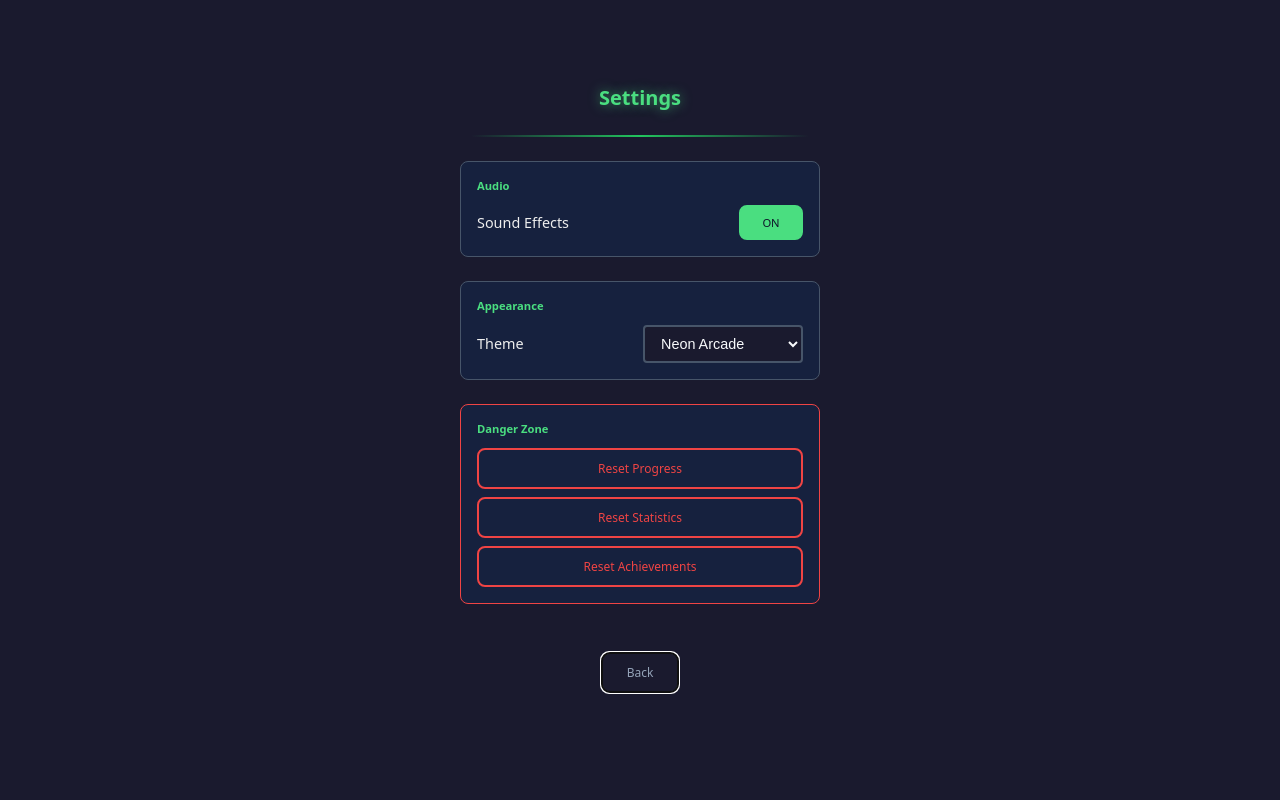
Test case: SettingsScreen › cancels confirmation dialog on Cancel click
Click the button "Reset Progress".
click(640, 468)  # box [477,448,803,488]
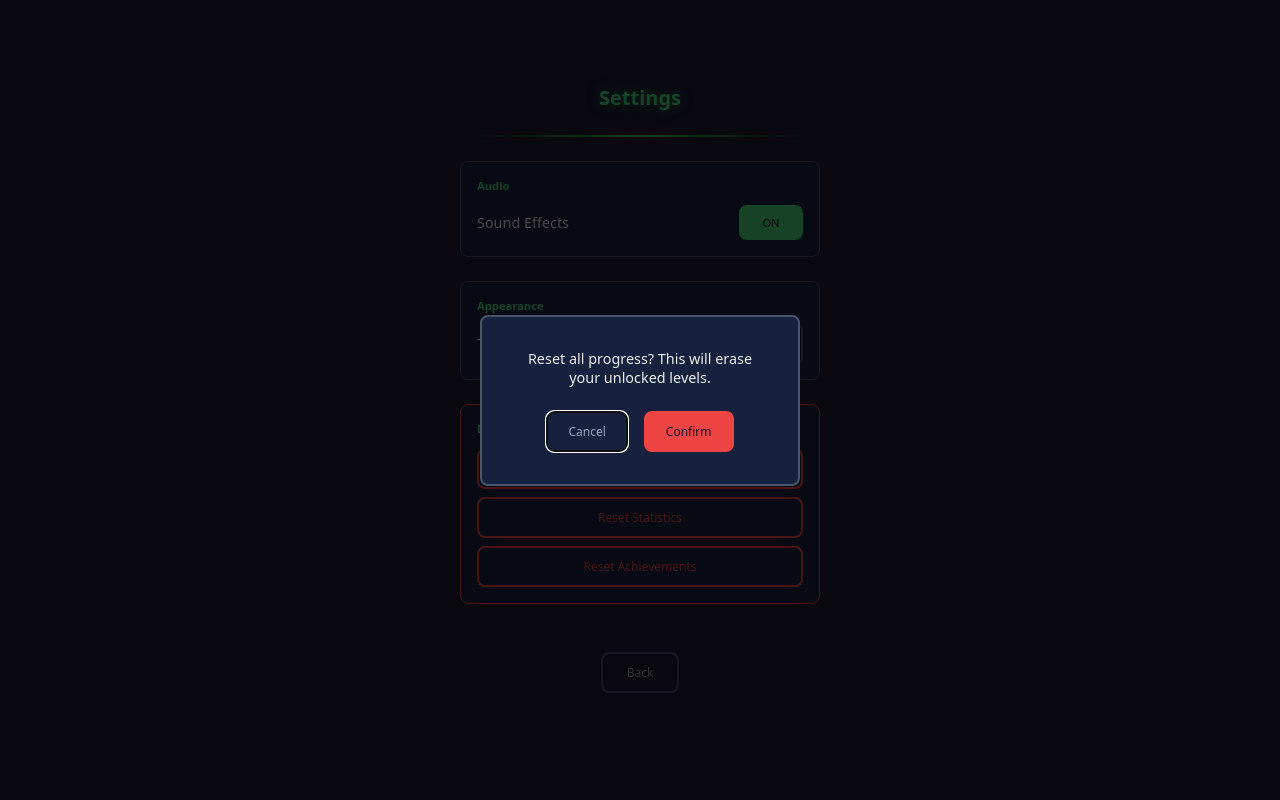
Click the button "Cancel".
click(587, 431)  # box [546,410,628,452]
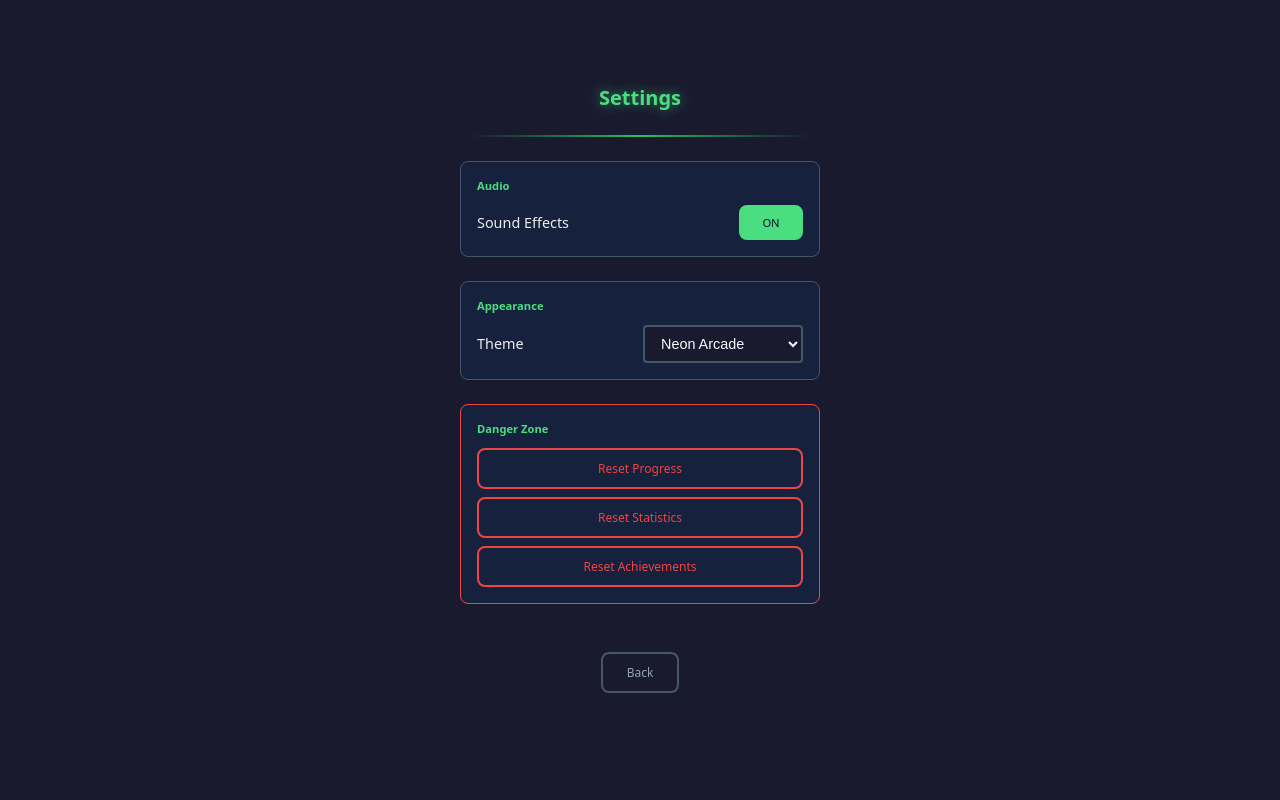
Result: the text "Reset all progress?" is gone
